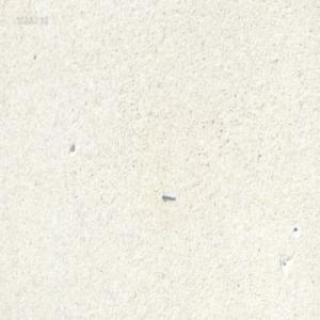Nailtrack_idkeyframe: (160, 190, 174, 200)
